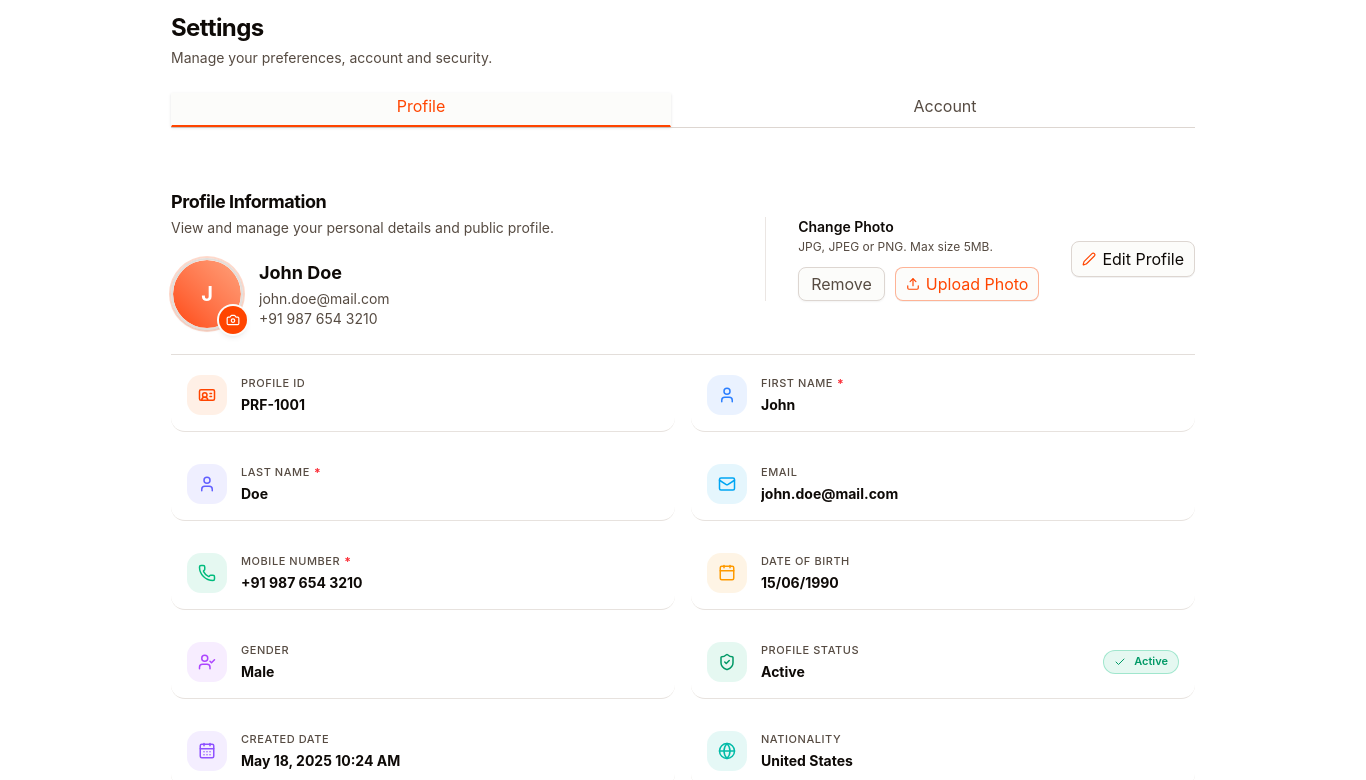
Scenario: SettingsPage › switches between Profile and Account tabs
Click the tab "Account".
click(945, 110)  # box x1=695 y1=92 x2=1195 y2=126
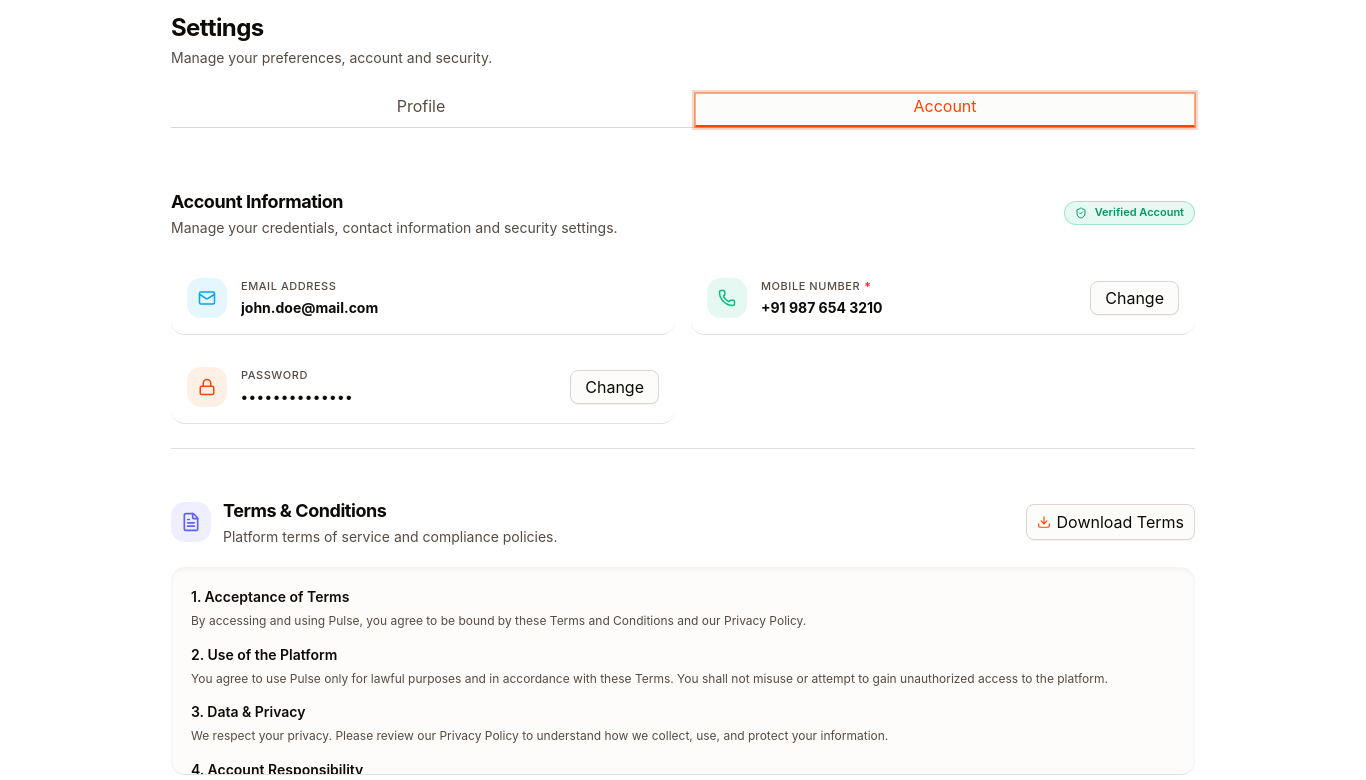
Now the heading "Account Information" is shown, box x1=171 y1=191 x2=343 y2=212
Now the heading "Terms & Conditions" is shown, box x1=223 y1=500 x2=386 y2=521
Now the text "Verified Account" is shown, box x1=1064 y1=202 x2=1195 y2=224
